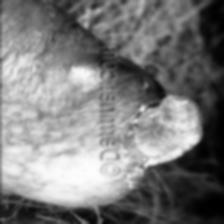Potentially Malignant Skin Tumors: (130, 88, 202, 168)
